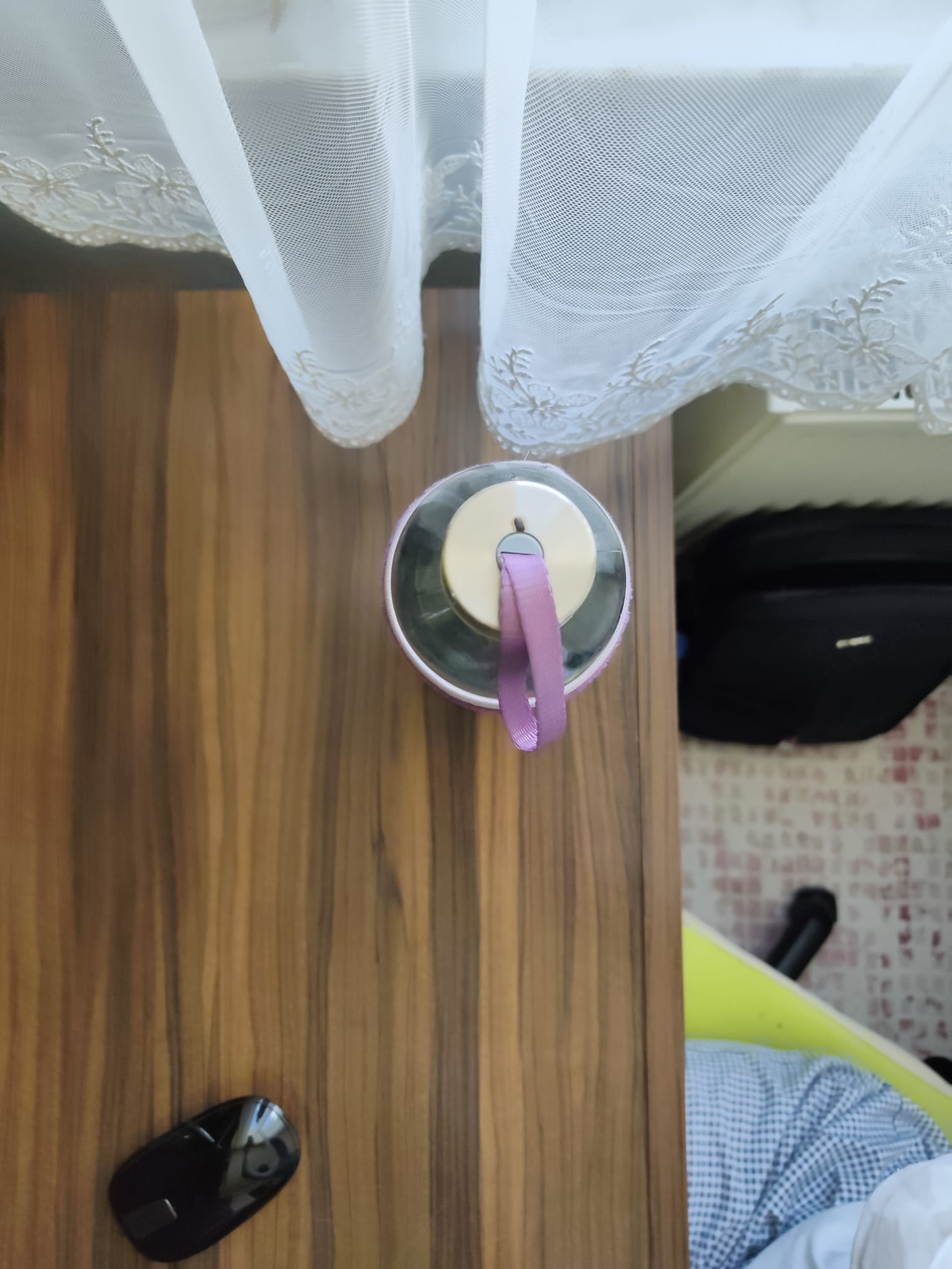su_sisesi: (376, 442, 650, 763)
